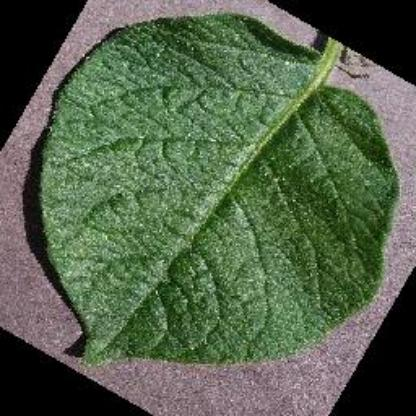Healthy-plant: (34, 11, 400, 366)
